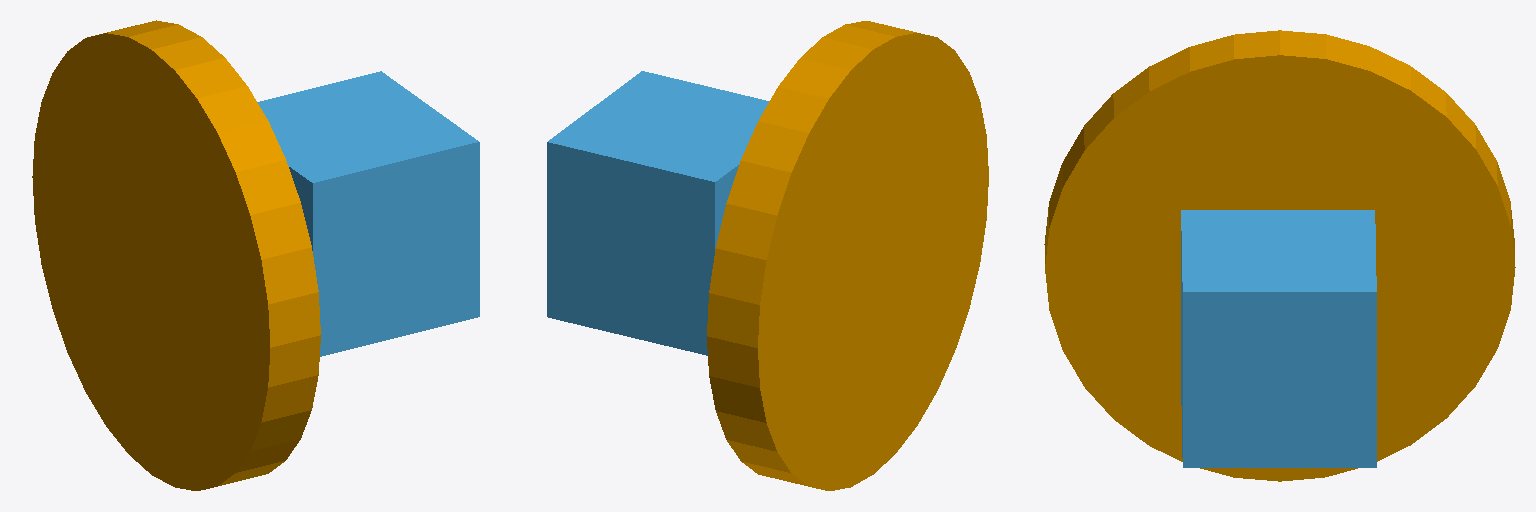
robot.urdf — IRB140_ATI_GELSIGHT:
<?xml version="1.0" ?>
<robot
  name="IRB140_ATI_GELSIGHT">
  <link
    name="base_link">
    <inertial>
      <origin
        xyz="-0.0820393251688425 -0.0599247343482246 0.000402028640224033"
        rpy="-1.57079 0 0" />
      <mass
        value="12.409016159487" />
      <inertia
        ixx="0.104502176006253"
        ixy="0.00734284655670482"
        ixz="1.00520827530156E-05"
        iyy="0.246486764065977"
        iyz="0.000843006810157312"
        izz="0.16727784258504" />
    </inertial>
    <visual>
      <origin
        xyz="0 0 0"
        rpy="-1.57079 0 0" />
      <geometry>
        <mesh
          filename="irb140/base_link_chull.stl" />
      </geometry>
      <material
        name="">
        <color
          rgba="0.890196078431373 0.411764705882353 0.125490196078431 1" />
      </material>
    </visual>
    <collision>
      <origin
        xyz="0 0 0"
        rpy="-1.57079 0 0" />
      <geometry>
        <mesh
          filename="irb140/base_link_chull.stl" />
      </geometry>
    </collision>
  </link>
  <collision_filter_group name="base">
	  <member link="base_link"/>
  </collision_filter_group>
  <collision_filter_group name="ignore_base">
	  <member link="link_1"/>
  </collision_filter_group>
  <link
    name="link_1">
    <inertial>
      <origin
        xyz="0.0281052735195531 -0.263404021764231 0.0438145912936454"
        rpy="0 0 0" />
      <mass
        value="16.287755696602" />
      <inertia
        ixx="0.239763088891016"
        ixy="-0.0247090810274521"
        ixz="0.000698689923332581"
        iyy="0.215279593840589"
        iyz="-0.0324602456686847"
        izz="0.21738294278782" />
    </inertial>
    <visual>
      <origin
        xyz="0 0.1095 0"
        rpy="0 0 0" />
      <geometry>
        <mesh
          filename="irb140/link1_chull.stl" />
      </geometry>
      <material
        name="">
        <color
          rgba="0.890196078431373 0.411764705882353 0.125490196078431 1" />
      </material>
    </visual>
    <collision>
      <origin
        xyz="0 0.1095 0"
        rpy="0 0 0" />
      <geometry>
        <mesh
          filename="irb140/link1_chull.stl" />
      </geometry>
    </collision>
  </link>
  <link
    name="link_2">
    <inertial>
      <origin
        xyz="0.0602722328661623 -0.550288012476887 -0.0924337165442594"
        rpy="0 0 0" />
      <mass
        value="7.58037424484438" />
      <inertia
        ixx="0.155736578403723"
        ixy="-0.0018292494088038"
        ixz="-0.000516100043145016"
        iyy="0.0449374006069967"
        iyz="0.0179772597993246"
        izz="0.131499062854069" />
    </inertial>
    <visual>
      <origin
        xyz="-0.07 0.352 0"
        rpy="0 0 0" />
      <geometry>
        <mesh
          filename="irb140/link2_chull.stl" />
      </geometry>
      <material
        name="">
        <color
          rgba="0.890196078431373 0.411764705882353 0.125490196078431 1" />
      </material>
    </visual>
    <collision>
      <origin
        xyz="-0.07 0.352 0"
        rpy="0 0 0" />
      <geometry>
        <mesh
          filename="irb140/link2_chull.stl" />
      </geometry>
    </collision>
  </link>
  <link
    name="link_3">
    <inertial>
      <origin
        xyz="0.0895840773879386 -0.706321963929838 0.00750781548417993"
        rpy="0 0 0" />
      <mass
        value="8.03072730997701" />
      <inertia
        ixx="0.0322819185861096"
        ixy="0.00189304098071818"
        ixz="-0.00301812650515099"
        iyy="0.0862439596837411"
        iyz="0.000363121583074651"
        izz="0.0941344479457789" />
    </inertial>
    <visual>
      <origin
        xyz="-0.07 0.712 0"
        rpy="0 0 0" />
      <geometry>
        <mesh
          filename="irb140/link3_chull.stl" />
      </geometry>
      <material
        name="">
        <color
          rgba="0.890196078431373 0.411764705882353 0.125490196078431 1" />
      </material>
    </visual>
    <collision>
      <origin
        xyz="-0.07  0.712 0"
        rpy="0 0 0" />
      <geometry>
        <mesh
          filename="irb140/link3_chull.stl" />
      </geometry>
    </collision>
  </link>
  <link
    name="link_4">
    <inertial>
      <origin
        xyz="0.381567778909365 -0.710566670346653 -0.0012125731023236"
        rpy="0 0 0" />
      <mass
        value="1.7702548022269" />
      <inertia
        ixx="0.00345886724545012"
        ixy="-5.89845314013543E-05"
        ixz="-0.000204665310780048"
        iyy="0.00814796317500158"
        iyz="3.05102860299544E-06"
        izz="0.00727417938725734" />
    </inertial>
    <visual>
      <origin
        xyz="-0.2885 0.712 0"
        rpy="0 0 0" />
      <geometry>
        <mesh
          filename="irb140/link4_chull.stl" />
      </geometry>
      <material
        name="">
        <color
          rgba="0.890196078431373 0.411764705882353 0.125490196078431 1" />
      </material>
    </visual>
    <collision>
      <origin
        xyz="-0.2885 0.712 0"
        rpy="0 0 0" />
      <geometry>
        <mesh
          filename="irb140/link4_chull.stl" />
      </geometry>
    </collision>
  </link>
  <link
    name="link_5">
    <inertial>
      <origin
        xyz="0.4486171436144 -0.711838316531129 0.000617034654940496"
        rpy="0 0 0" />
      <mass
        value="0.145550520315438" />
      <inertia
        ixx="7.1482542749252E-05"
        ixy="4.08865519403599E-07"
        ixz="1.24002244883737E-07"
        iyy="6.88353185385481E-05"
        iyz="-1.00702333671187E-08"
        izz="0.000112132445217078" />
    </inertial>
    <visual>
      <origin
        xyz="-0.450 0.712 0"
        rpy="0 0 0" />
      <geometry>
        <mesh
          filename="irb140/link5_chull.stl" />
      </geometry>
      <material
        name="">
        <color
          rgba="0.890196078431373 0.411764705882353 0.125490196078431 1" />
      </material>
    </visual>
    <collision>
      <origin
        xyz="-0.450 0.712 0"
        rpy="0 0 0" />
      <geometry>
        <mesh
          filename="irb140/link5_chull.stl" />
      </geometry>
    </collision>
  </link>
    <link
    name="link_6">
    <inertial>
      <origin
        xyz="0.502059432845099 -0.711774967143511 2.38785136319277E-10"
        rpy="0 0 0" />
      <mass
        value="0.0258654328719498" />
      <inertia
        ixx="5.9822143548355E-06"
        ixy="4.58244484401765E-08"
        ixz="-3.33091906738059E-13"
        iyy="6.2921914507958E-06"
        iyz="6.75626369217644E-13"
        izz="6.17479327327778E-06" />
    </inertial>
    <visual>
      <origin
        xyz="-0.515 0.712 0"
        rpy="0 0 0" />
      <geometry>
        <mesh
          filename="irb140/link6_chull.stl" />
      </geometry>
      <material
        name="">
        <color
          rgba="0.796078431372549 0.823529411764706 0.937254901960784 1" />
      </material>
    </visual>
    <collision>
      <origin
        xyz="-0.515 0.712 0"
        rpy="0 0 0" />
      <geometry>
        <mesh
          filename="irb140/link6_chull.stl" />
      </geometry>
    </collision>
  </link>
  <joint name="joint1" type="revolute">
    <parent link="base_link"/>
    <child link="link_1"/>
    <limit effort="300" lower="-3.14159265359" upper="3.14159265359" velocity="4.36"/>
    <axis xyz="0 -1 0"/>
    <origin rpy="-1.57079 0 0" xyz="0 0 0.1095"/>
  </joint>
  <joint name="joint2" type="revolute">
    <parent link="link_1"/>
    <child link="link_2"/>
    <limit effort="300" lower="-1.57079633" upper="1.91986218" velocity="4.36"/>
    <axis xyz="0 0 1"/>
    <origin rpy="0 0 0" xyz="0.07 -0.2425 0"/>
  </joint>
  <joint name="joint3" type="revolute">
    <parent link="link_2"/>
    <child link="link_3"/>
    <limit effort="300" lower="-4.01425728" upper="0.87266463" velocity="4.36"/>
    <axis xyz="0 0 1"/>
    <origin rpy="0 0 0" xyz="0 -0.360 0"/>
  </joint>
  <joint name="joint4" type="revolute">
    <parent link="link_3"/>
    <child link="link_4"/>
    <limit effort="300" lower="-3.49065850" upper="3.49065850" velocity="5.58"/>
    <axis xyz="1 0 0"/>
    <origin rpy="0 0 0" xyz="0.2185 0 0"/>
  </joint>
  <joint name="joint5" type="revolute">
    <parent link="link_4"/>
    <child link="link_5"/>
    <limit effort="300" lower="-2.09439510" upper="2.09439510" velocity="5.58"/>
    <axis xyz="0 0 1"/>
    <origin rpy="0 0 0" xyz="0.1615 0 0"/>
  </joint>
  <joint name="joint6" type="revolute">
    <parent link="link_5"/>
    <child link="link_6"/>
    <limit effort="300" lower="-6.98131701" upper="6.98131701" velocity="7.33"/>
    <axis xyz="1 0 0"/>
    <origin rpy="0 0 0" xyz="0.065 0 0"/>
  </joint>

 <link name="ATI_sensor">
    <inertial>
      <origin rpy="0 0 0" xyz="-0.0064062 0.01873 0.011887"/>
      <mass value="0.68252"/>
      <inertia ixx="0.000615295062479599" ixy="-0.000155498855912512" ixz="4.23692762827157E-06" iyy="8.42227283334224E-06" iyz="-0.000848389613222753" izz="-8.42227283334216E-06"/>
    </inertial>
    <visual>
      <origin rpy="1.5707963267949 0 0" xyz="0 0 0"/>
      <geometry>
        <mesh filename="irb140/ATI_sensor_chull.obj"/>
      </geometry>
      <material name="">
        <color rgba="0.75294 0.75294 0.75294 1"/>
      </material>
    </visual>
    <collision>
      <origin rpy="1.5707963267949 0 0" xyz="0 0 0"/>
      <geometry>
        <mesh filename="irb140/ATI_sensor_chull.obj"/>
      </geometry>
    </collision>
  </link>
  <joint name="ati_joint" type="fixed">
    <origin rpy="0.0 -2.5 -1.57079" xyz="0.00953 0 0"/>
    <parent link="link_6"/>
    <child link="ATI_sensor"/>
  </joint>

     
  <link name="ati_endplate">
    <visual>
      <geometry>
        <cylinder length=".01" radius="0.04"/>
      </geometry>
      <origin xyz="0 0 0.005"/>
    </visual>

  <!--
    <collision group="gelsight">
      <geometry>
        <box size="0.033 0.033 0.033"/>
      </geometry>
      <origin xyz="0 0 -0.0166"/>
    </collision>
  -->
  </link>
  <joint name="ati_endplate_joint" type="fixed">
    <origin rpy="3.1415 -1.579 0.0" xyz="0.05 0 0"/>
    <parent link="link_6"/>
    <child link="ati_endplate"/>
  </joint>


  <link name="gelsight_box">
    <visual>
      <geometry>
        <box size="0.033 0.033 0.033"/>
      </geometry>
      <origin xyz="0 0 -0.0166"/>
    </visual>
  <!--
    <collision group="gelsight">
      <geometry>
        <box size="0.033 0.033 0.033"/>
      </geometry>
      <origin xyz="0 0 -0.0166"/>
    </collision>
  -->
    <inertial>
      <mass value="0.1"/>
      <inertia ixx="0.01" ixy="0.0" ixz="0.0" iyy="0.01" iyz="0.0" izz="0.01"/>
      <origin xyz="0 0 -0.166"/>
    </inertial>
  </link>
  <joint name="gelsight_box_joint" type="fixed">
    <origin rpy="3.1415 -1.579 0.0" xyz="0.105 0 0"/>
    <parent link="link_6"/>
    <child link="gelsight_box"/>
  </joint>

  <transmission name="joint1_trans" type="SimpleTransmission">
    <joint name="joint1"/>
    <actuator name="joint1_motor"/>
    <mechanicalReduction>1</mechanicalReduction>
  </transmission>

  <transmission name="joint2_trans" type="SimpleTransmission">
    <joint name="joint2"/>
    <actuator name="joint2_motor"/>
    <mechanicalReduction>1</mechanicalReduction>
  </transmission>

  <transmission name="joint3_trans" type="SimpleTransmission">
    <joint name="joint3"/>
    <actuator name="joint3_motor"/>
    <mechanicalReduction>1</mechanicalReduction>
  </transmission>

  <transmission name="joint4_trans" type="SimpleTransmission">
    <joint name="joint4"/>
    <actuator name="joint4_motor"/>
    <mechanicalReduction>1</mechanicalReduction>
  </transmission>

  <transmission name="joint5_trans" type="SimpleTransmission">
    <joint name="joint5"/>
    <actuator name="joint5_motor"/>
    <mechanicalReduction>1</mechanicalReduction>
  </transmission>
  
  <transmission name="joint6_trans" type="SimpleTransmission">
    <joint name="joint6"/>
    <actuator name="joint6_motor"/>
    <mechanicalReduction>1</mechanicalReduction>
  </transmission>
  
</robot>

--- Facts derived from the render (not from the file) ---
Views: 3 orthographic renders of the robot side by side, from view 1: azimuth 30°, elevation 25°; view 2: azimuth 150°, elevation 25°; view 3: azimuth 270°, elevation 25°.
Model IRB140_ATI_GELSIGHT with 10 links and 9 joints (6 revolute, 3 fixed), rooted at base_link, posed all joints at 0.
Visible links, largest first — view 1: ati_endplate, gelsight_box; view 2: ati_endplate, gelsight_box; view 3: ati_endplate, gelsight_box.
Boxes of the visible links, left/top/right/bottom form: ati_endplate: left=32, top=20, right=320, bottom=490; gelsight_box: left=257, top=71, right=479, bottom=356; ati_endplate: left=707, top=21, right=988, bottom=490; gelsight_box: left=547, top=71, right=769, bottom=355; ati_endplate: left=1044, top=30, right=1515, bottom=481; gelsight_box: left=1181, top=210, right=1376, bottom=467.
Bounding box of the posed robot: 0.0554 × 0.0801 × 0.08 m (x, y, z).
0 mesh visuals loaded from 8 distinct referenced files (none loaded); not drawn: 8 (reference not matched to a file when rendering).